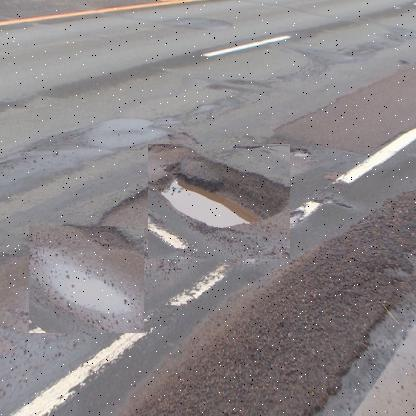pothole: (28, 226, 144, 334)
pothole_water: (147, 144, 290, 260)
